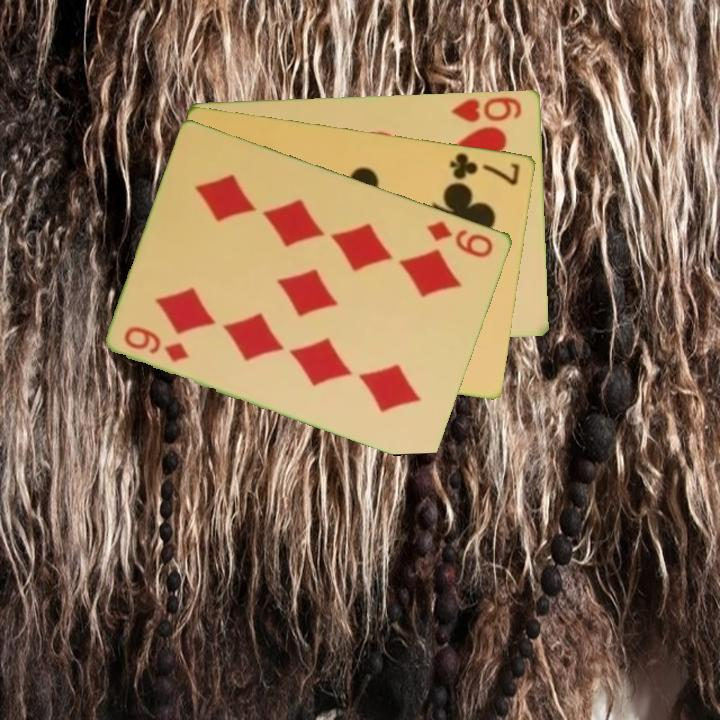6h: (448, 92, 525, 125)
7c: (446, 148, 523, 188)
9d: (424, 216, 497, 260), (121, 322, 193, 365)
